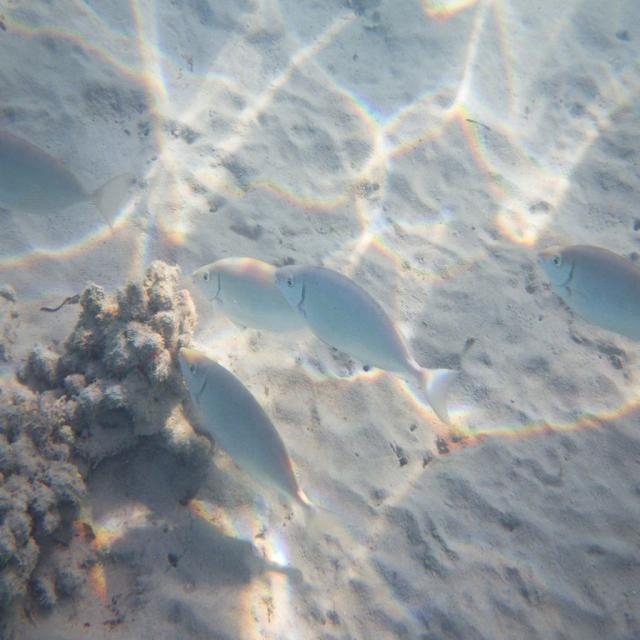Sokar Baligi: (172, 332, 328, 539)
